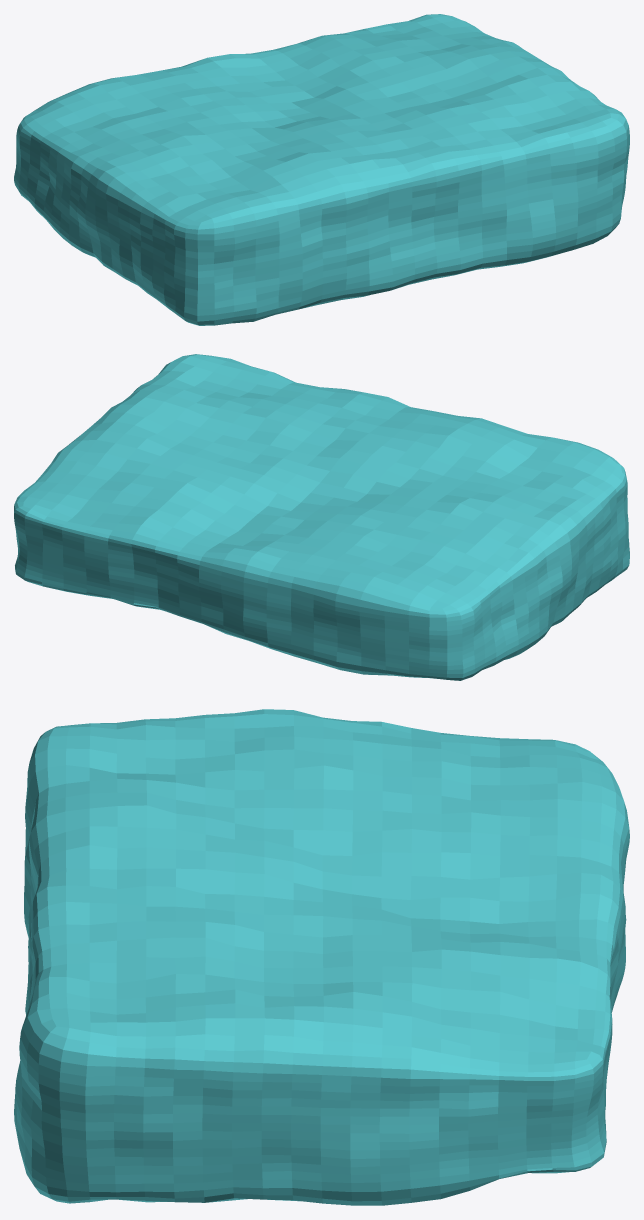
The picture shows the model from 3 angles, top to bottom: view 1: azimuth 30°, elevation 25°; view 2: azimuth 150°, elevation 25°; view 3: azimuth 270°, elevation 25°; orthographic projection. The views are drawn at different scales.
Bounding box in the file's own units: 1.13 × 0.3123 × 0.8336.
